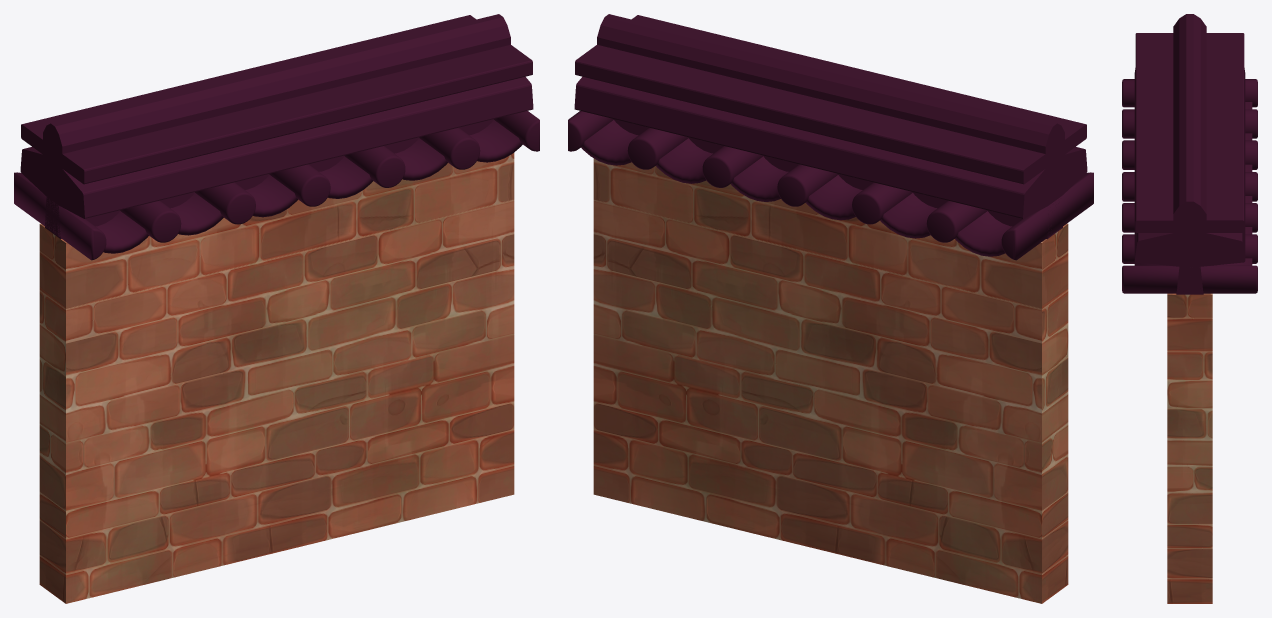
File: WALL.fbx
3 views of the same model, side by side, from view 1: azimuth 30°, elevation 25°; view 2: azimuth 150°, elevation 25°; view 3: azimuth 270°, elevation 25° (orthographic). The views are drawn at different scales.
Visible parts, largest first — view 1: Cube; view 2: Cube; view 3: Cube.
Part boxes in pixels (bbox=[...]): Cube: bbox=[14, 14, 539, 603]; Cube: bbox=[568, 14, 1093, 603]; Cube: bbox=[1122, 14, 1257, 603].
Size of the model in its own units: 600 by 600 by 183.
Materials: 2 (1 with a texture image).
